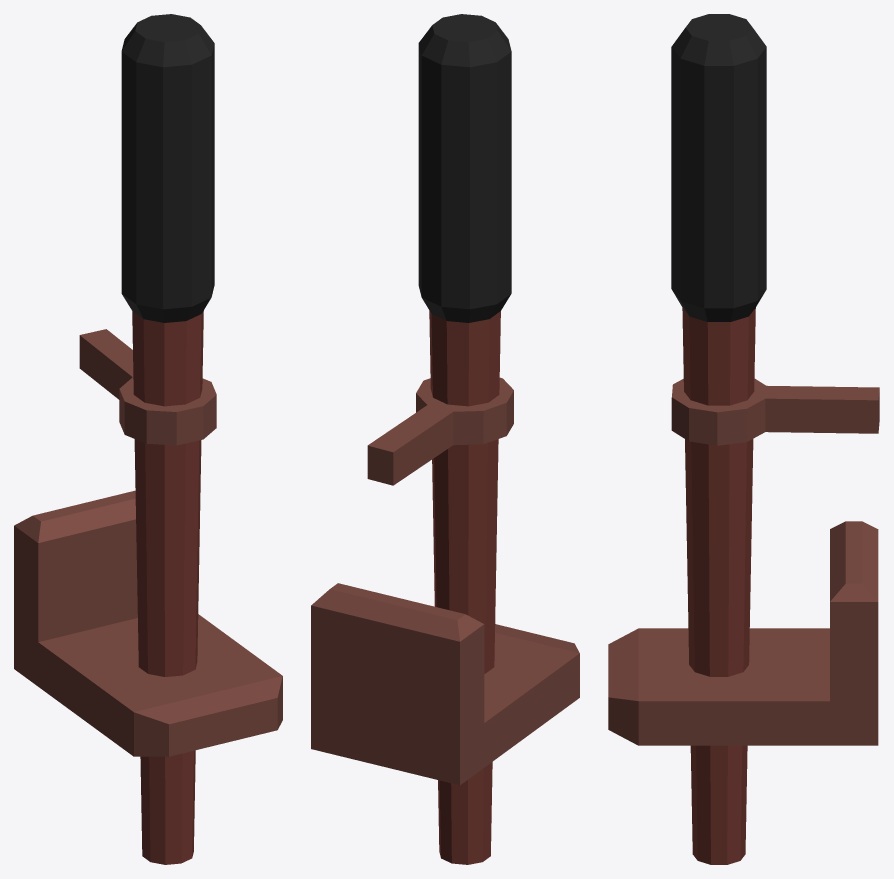
The model's file is Torch_2_Red.fbx.
3 renders of one model, left to right at view 1: azimuth 30°, elevation 25°; view 2: azimuth 150°, elevation 25°; view 3: azimuth 270°, elevation 25°, orthographic.
Parts seen in each view (by area): view 1: Troch_2_Red_Part_3, Torch_2_Red_Part_2, Torch_2_Red_Part_1; view 2: Troch_2_Red_Part_3, Torch_2_Red_Part_2, Torch_2_Red_Part_1; view 3: Troch_2_Red_Part_3, Torch_2_Red_Part_2, Torch_2_Red_Part_1.
Part boxes in pixels (bbox=[...]): Troch_2_Red_Part_3: bbox=[14, 329, 282, 756]; Torch_2_Red_Part_2: bbox=[121, 14, 214, 322]; Torch_2_Red_Part_1: bbox=[132, 310, 203, 864]; Troch_2_Red_Part_3: bbox=[311, 377, 579, 785]; Torch_2_Red_Part_2: bbox=[418, 14, 511, 322]; Torch_2_Red_Part_1: bbox=[429, 311, 500, 864]; Troch_2_Red_Part_3: bbox=[608, 379, 879, 745]; Torch_2_Red_Part_2: bbox=[671, 14, 766, 321]; Torch_2_Red_Part_1: bbox=[682, 307, 755, 864].
Size of the model in its own units: 14 by 74.14 by 22.04.
